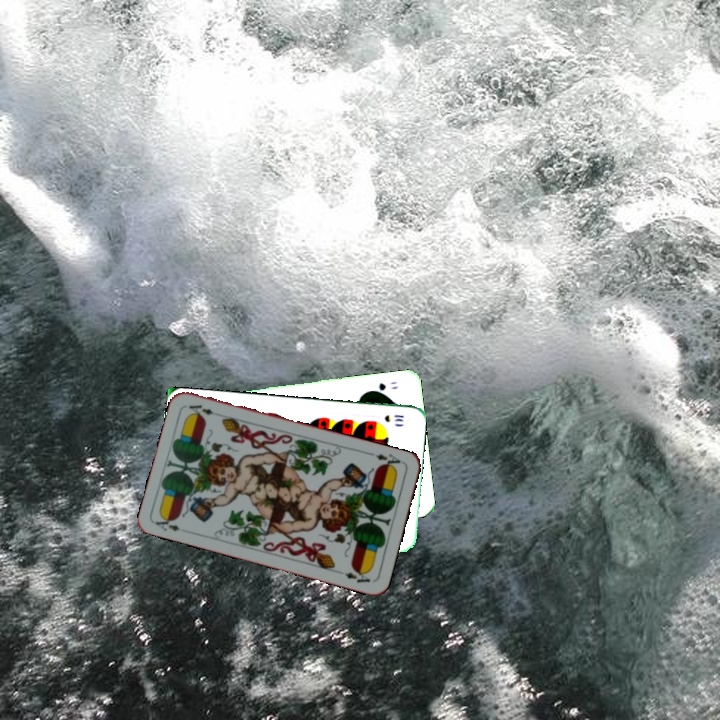EA: (372, 450, 403, 472), (151, 512, 182, 534)
GO: (365, 377, 400, 396)
S10: (380, 411, 406, 424)
